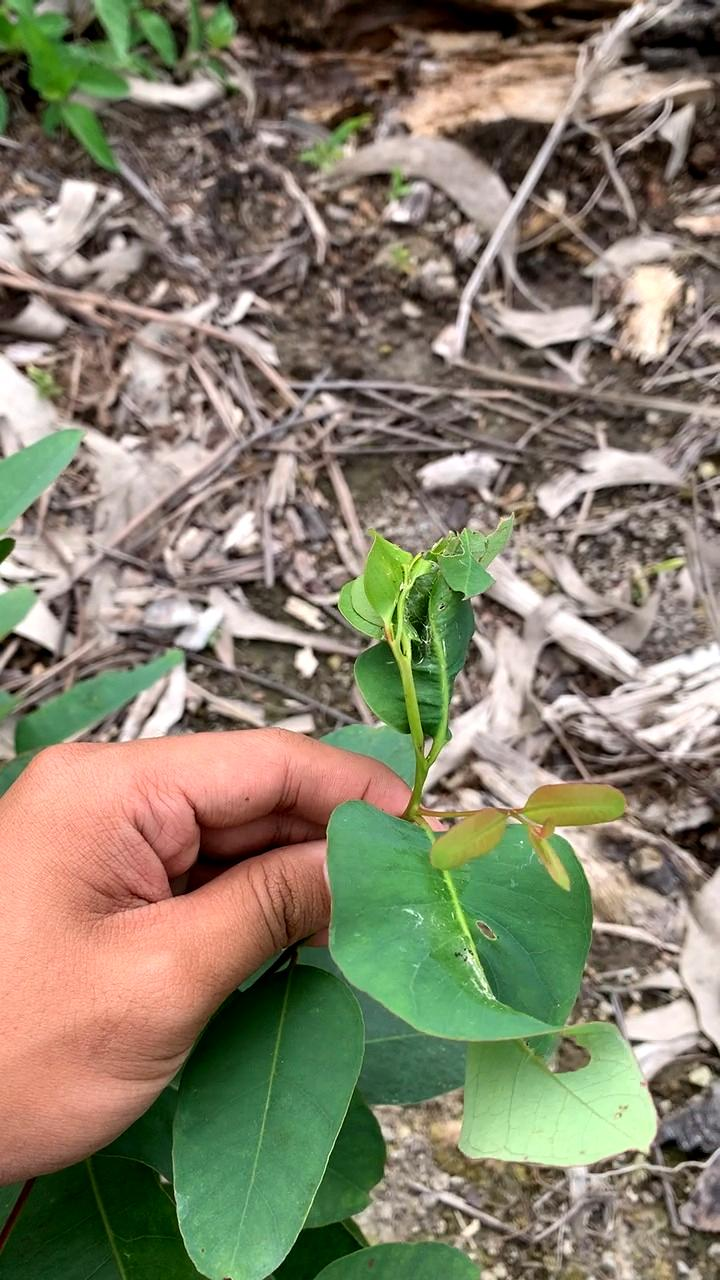Leaf Roller - Leaf: (343, 523, 523, 741)
